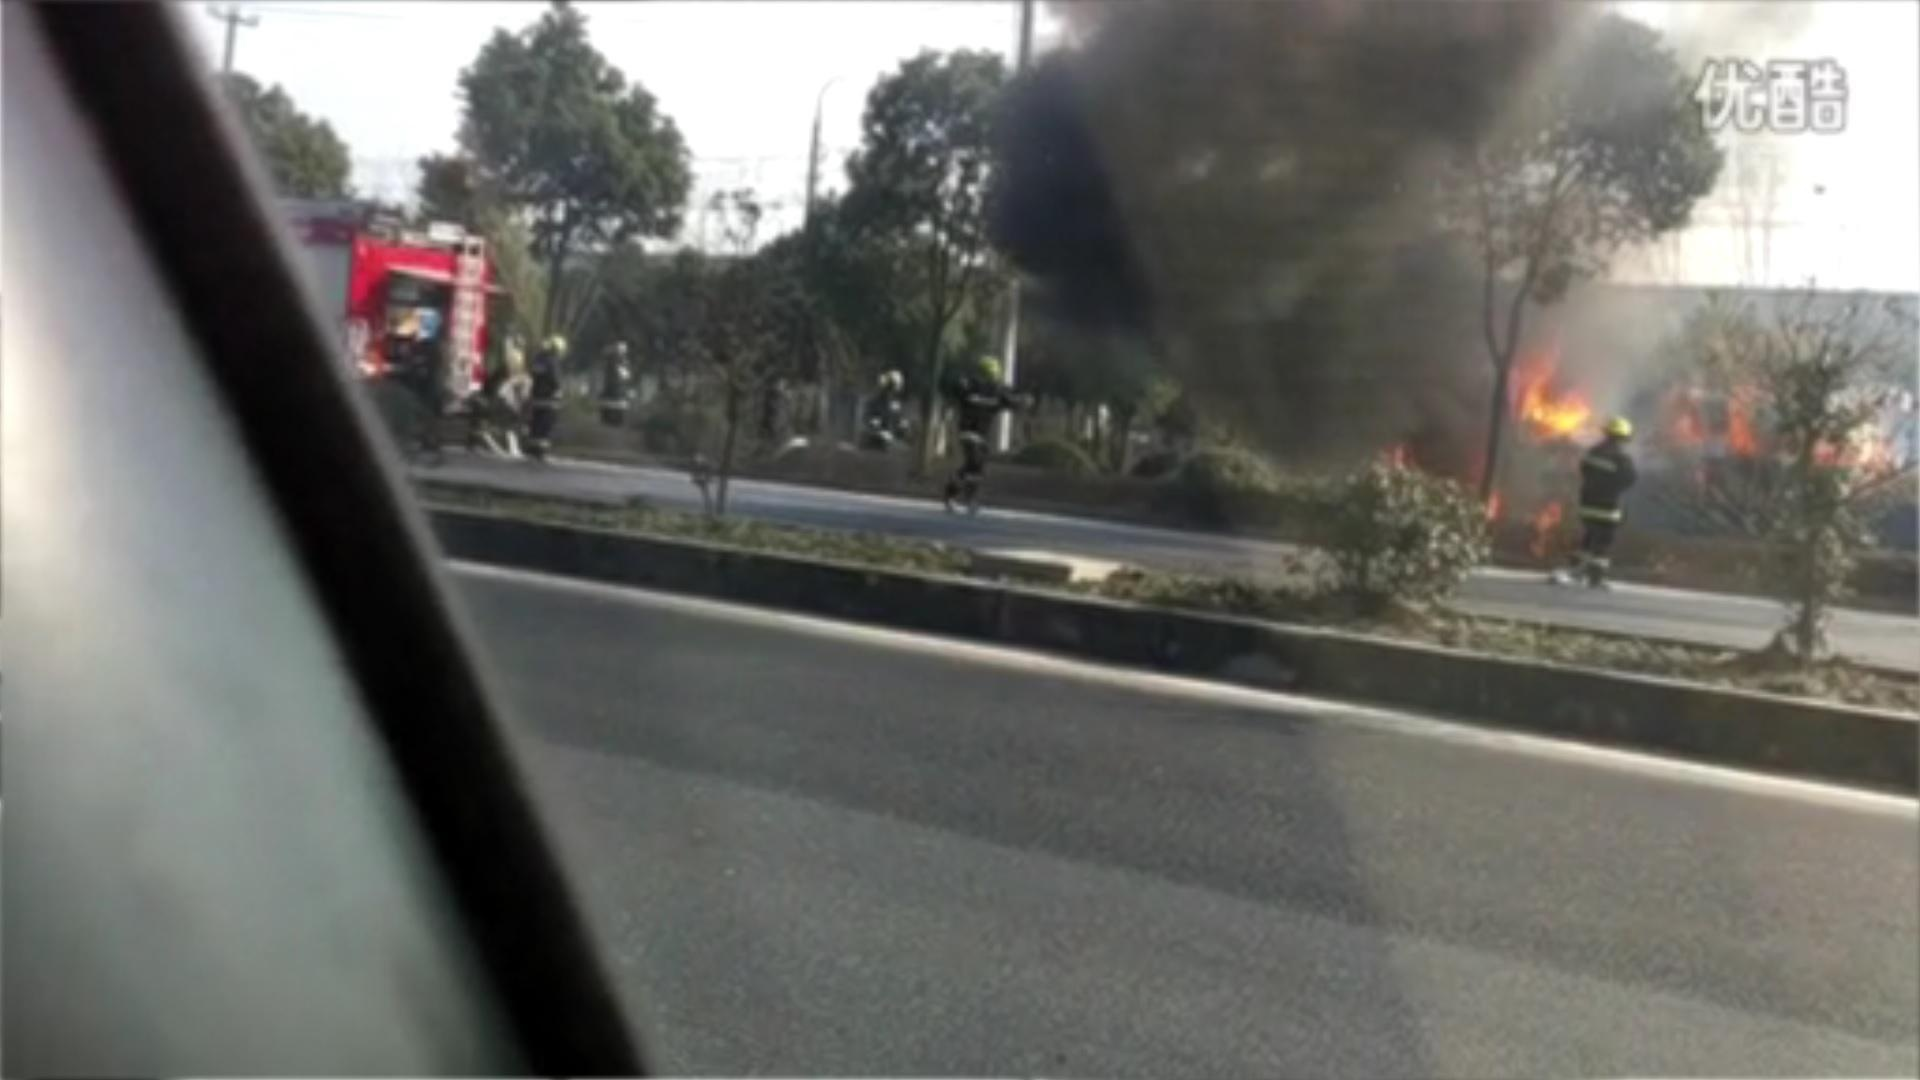fire: (1510, 361, 1600, 440), (1677, 389, 1767, 450)
